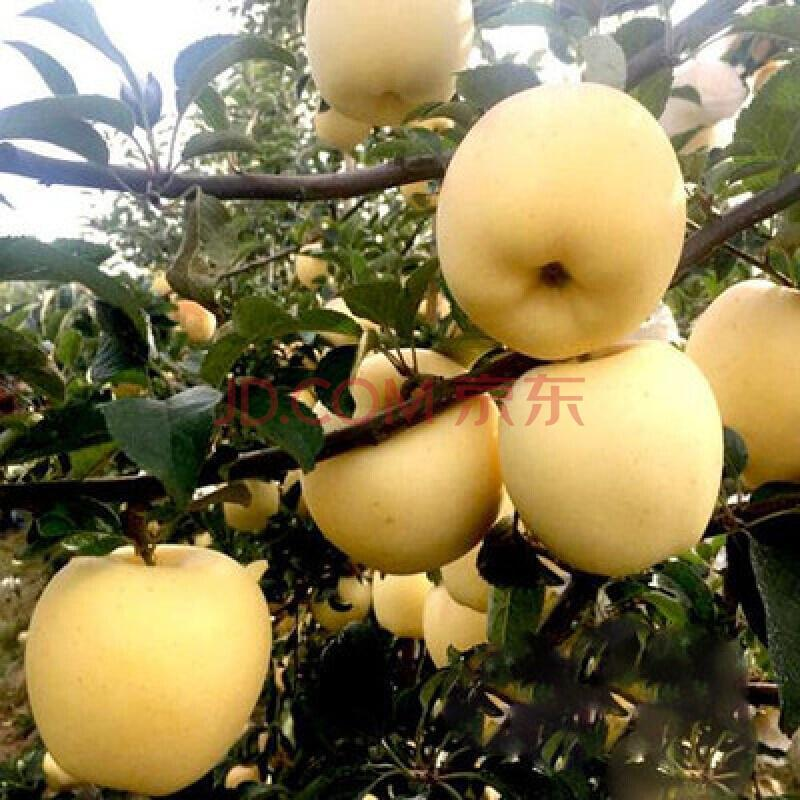apple: (430, 79, 686, 365), (23, 544, 272, 793), (493, 340, 725, 578), (291, 343, 503, 576), (306, 2, 475, 124)
